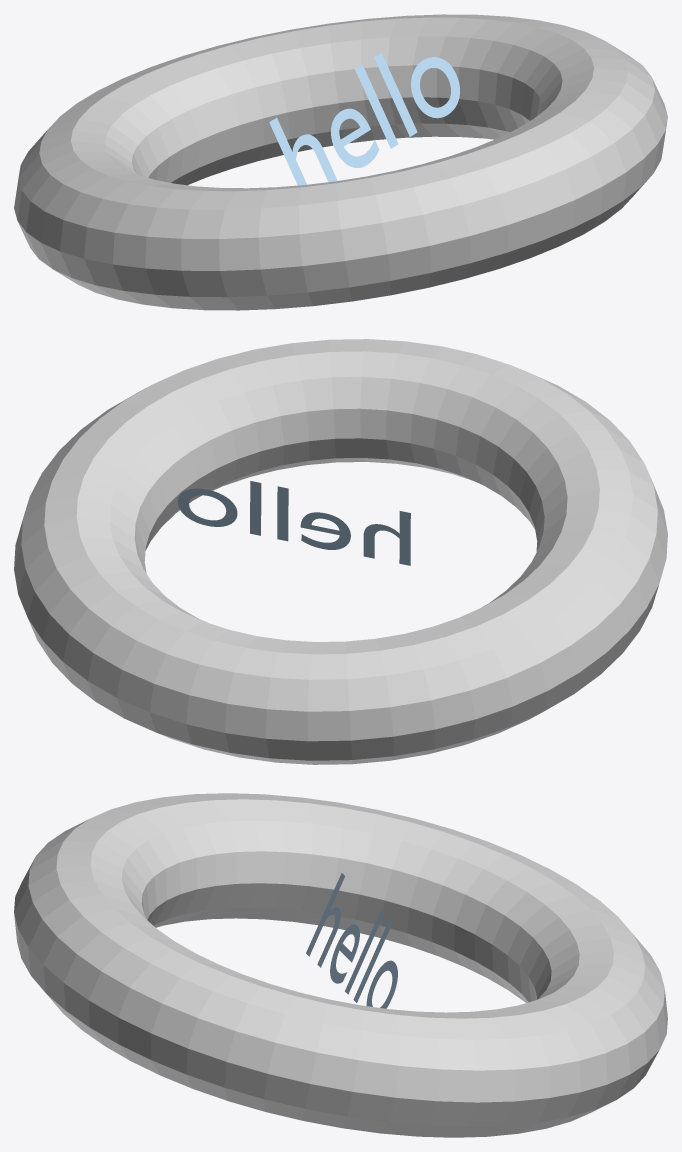
3 renders of one model, top to bottom at view 1: azimuth 30°, elevation 25°; view 2: azimuth 150°, elevation 25°; view 3: azimuth 270°, elevation 25°, orthographic. The views are drawn at different scales.
Parts seen in each view (by area): view 1: Torus, Text; view 2: Torus, Text; view 3: Torus, Text.
Part boxes in pixels (x1,y1,x2,y2): Torus: (14, 14, 667, 310); Text: (269, 52, 459, 185); Torus: (14, 339, 667, 764); Text: (178, 481, 410, 565); Torus: (14, 793, 667, 1137); Text: (306, 873, 397, 1008).
Bounding box in the file's own units: 5.09 × 1.7 × 4.98.
